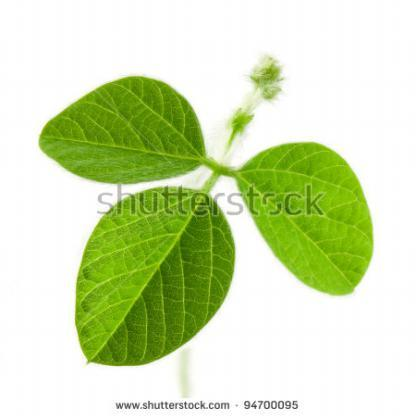Soyabean leaf: (70, 180, 238, 375), (233, 139, 376, 301), (31, 73, 208, 193)
